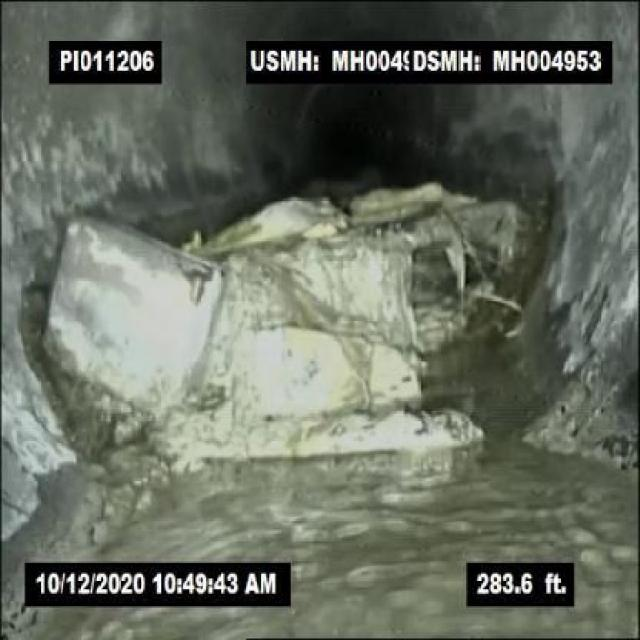Obstacle: (20, 118, 591, 511)
